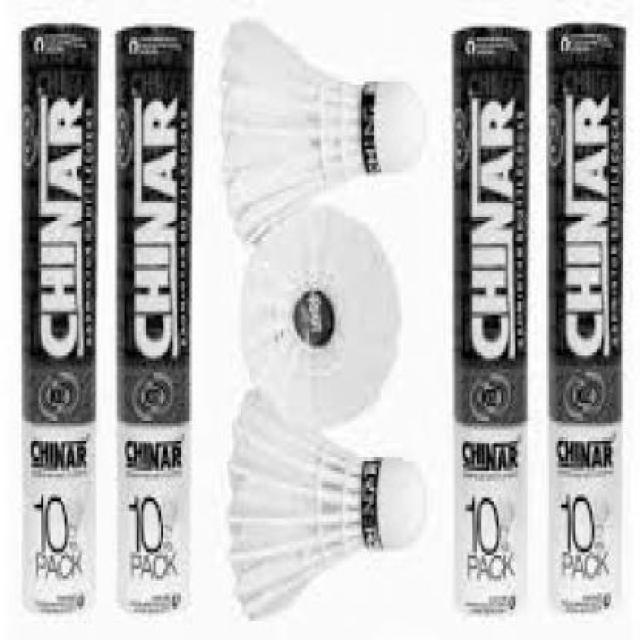Shuttlecock: (218, 14, 428, 246), (238, 205, 402, 432)
